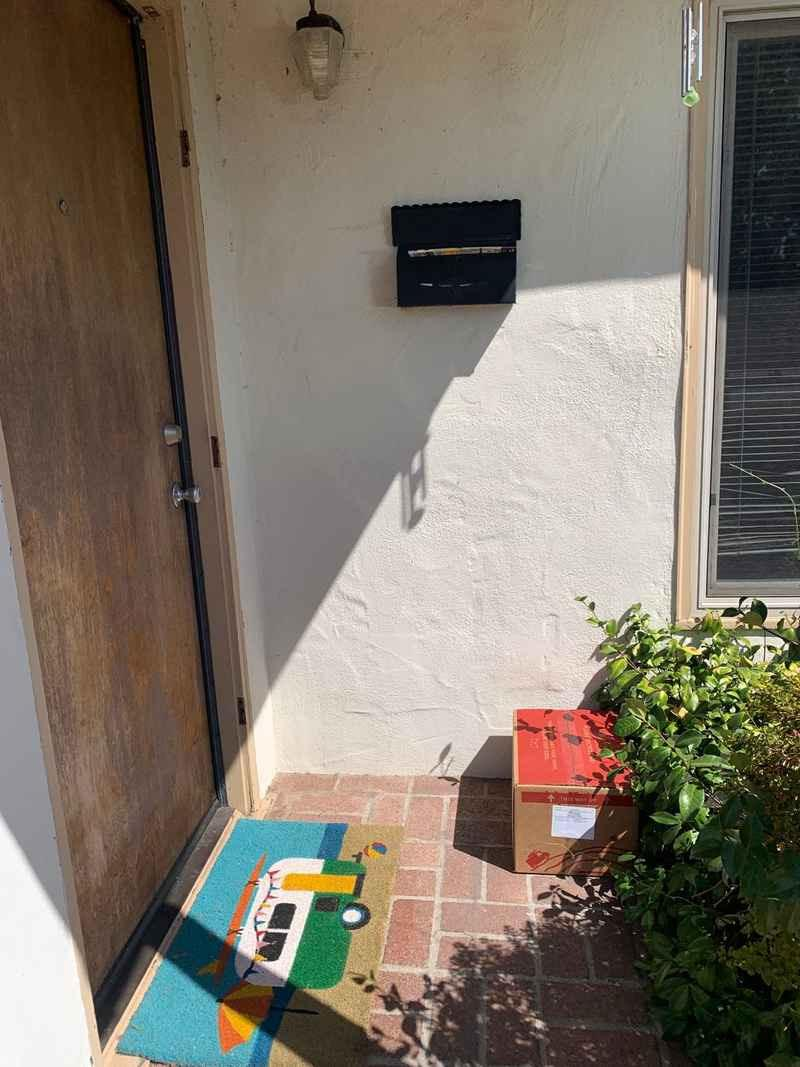package: (514, 703, 642, 885)
